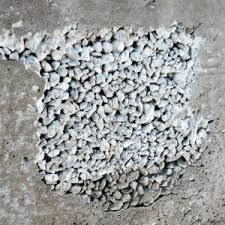Spalling: (1, 23, 213, 212)
